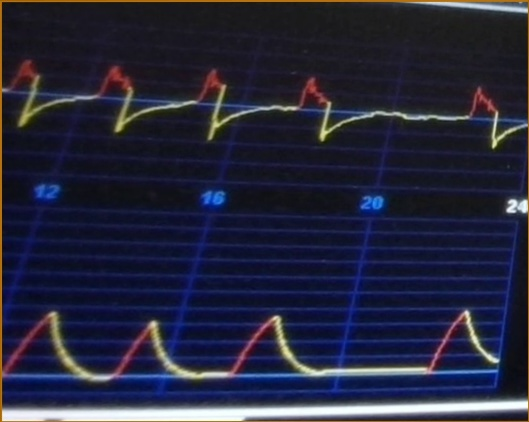Accumulation Flow: (4, 38, 523, 169)
Volume: (2, 292, 501, 386)
